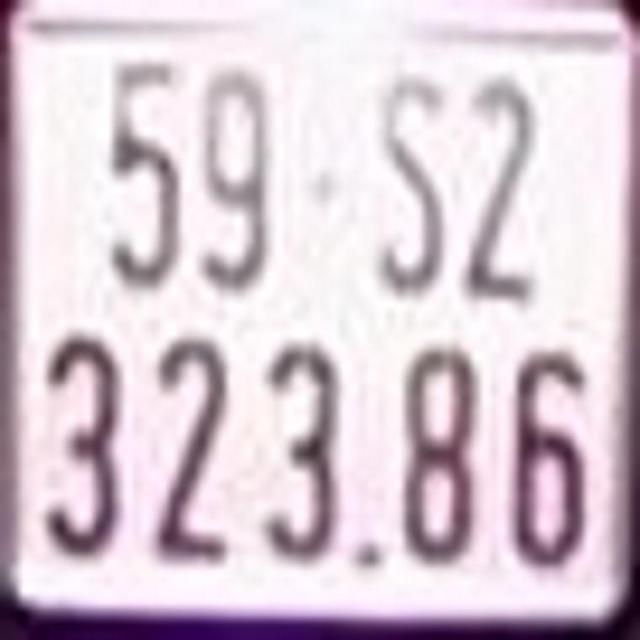2: (155, 336, 235, 562), (465, 75, 540, 304)
3: (49, 333, 122, 554), (266, 343, 340, 554)
5: (108, 62, 186, 284)
6: (517, 351, 587, 563)
8: (404, 344, 478, 563)
9: (200, 72, 268, 290)
S: (375, 74, 448, 296)
